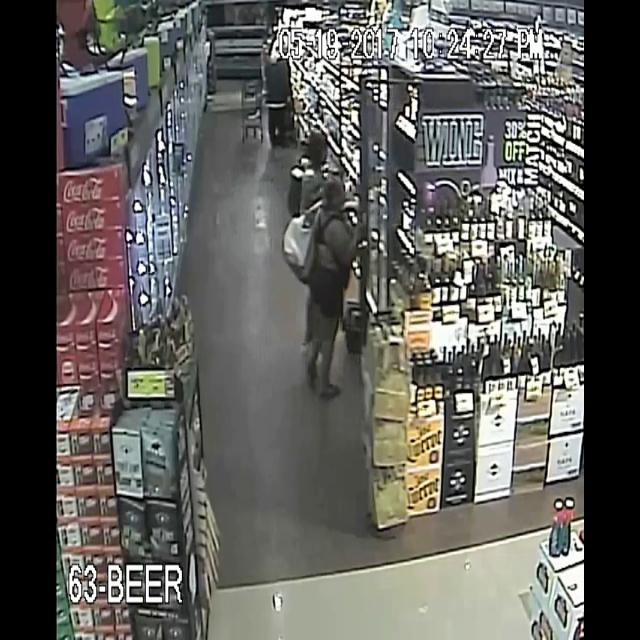normal: (260, 35, 292, 130)
shoplifting: (264, 132, 402, 406), (293, 125, 335, 182)
